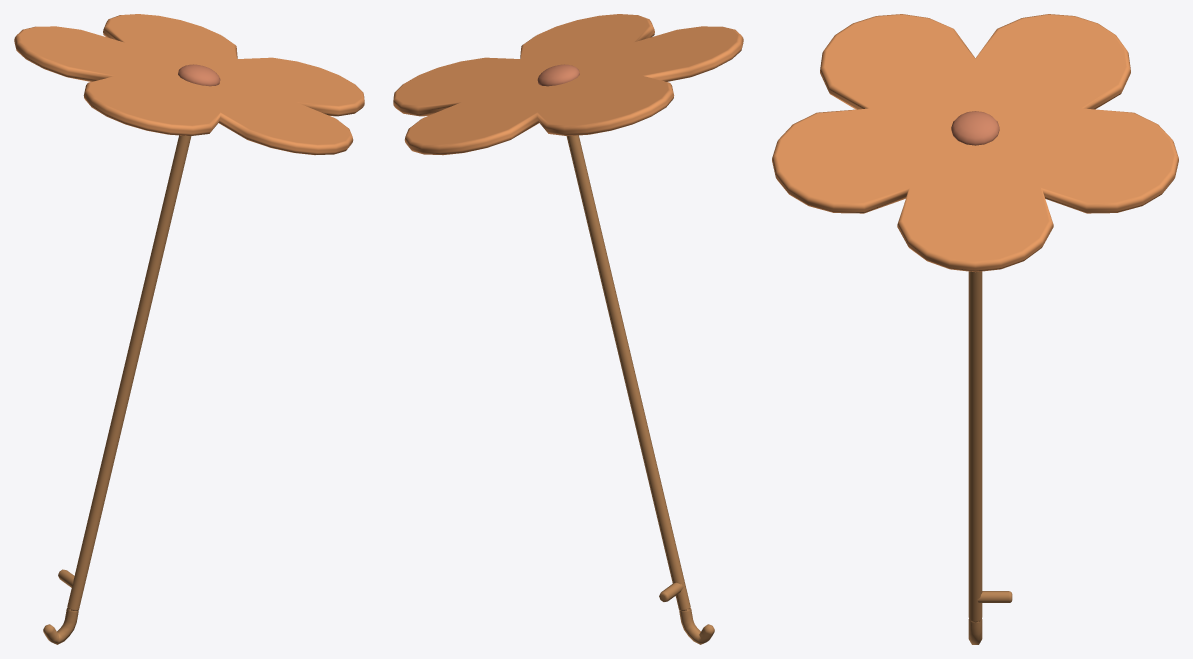
Rendered from maple_leaf_umbrella.glb.
3 renders of one model, left to right at view 1: azimuth 30°, elevation 25°; view 2: azimuth 150°, elevation 25°; view 3: azimuth 270°, elevation 25°, orthographic. The views are drawn at different scales.
Visible parts, largest first — view 1: maple_leaf_umbrella_ArmR; view 2: maple_leaf_umbrella_ArmR; view 3: maple_leaf_umbrella_ArmR.
Boxes of the visible parts, bbox=[...] form: maple_leaf_umbrella_ArmR: bbox=[14, 14, 364, 644]; maple_leaf_umbrella_ArmR: bbox=[393, 14, 743, 644]; maple_leaf_umbrella_ArmR: bbox=[772, 14, 1178, 644].
Bounding box in the file's own units: 0.8149 × 1.42 × 0.8286.
